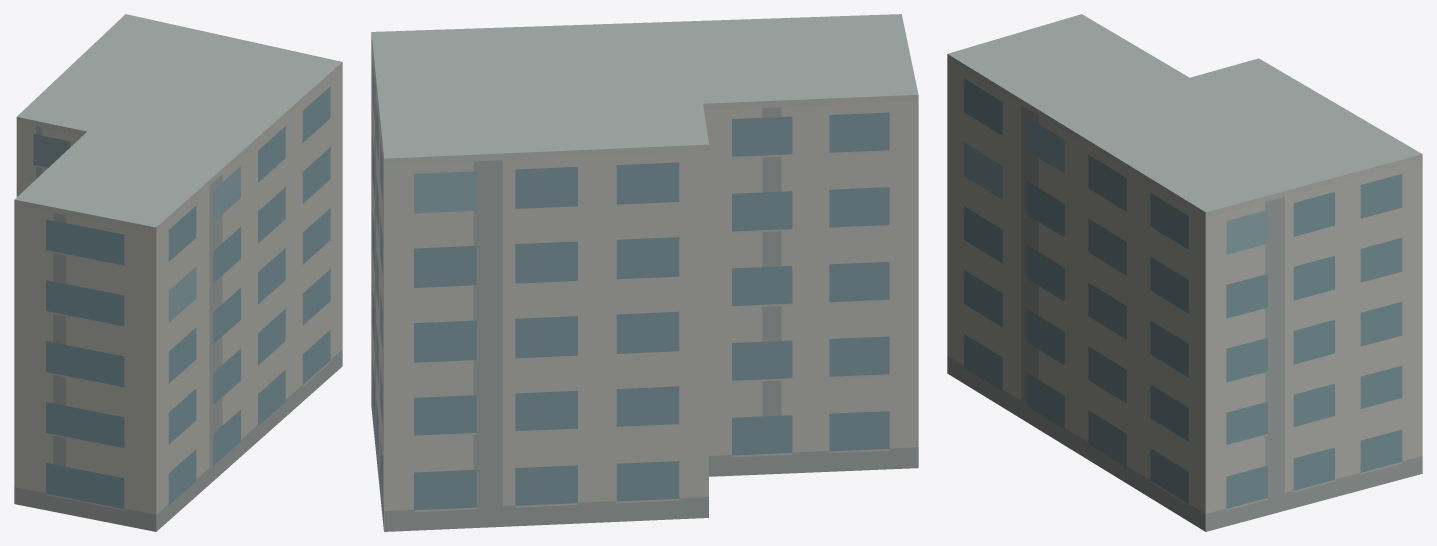
Rendered from survey-upis-32811880.glb.
3 views of the same model, side by side, from view 1: azimuth 30°, elevation 25°; view 2: azimuth 150°, elevation 25°; view 3: azimuth 270°, elevation 25° (orthographic). The views are drawn at different scales.
Visible parts, largest first — view 1: survey-upis-32811880.tmp; view 2: survey-upis-32811880.tmp; view 3: survey-upis-32811880.tmp.
Part boxes in pixels (x1,y1,x2,y2): survey-upis-32811880.tmp: [14, 14, 342, 531]; survey-upis-32811880.tmp: [371, 14, 918, 531]; survey-upis-32811880.tmp: [947, 14, 1422, 531].
Size of the model in its own units: 18.11 by 13.6 by 18.34.
